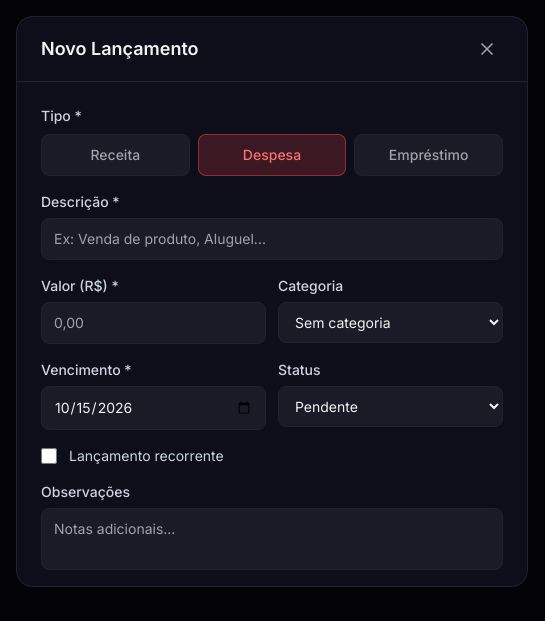
Test: LancamentoForm — empréstimo › bloqueia submit de empréstimo sem direção
Click the button "Empréstimo" at (429, 154), box [354,134,503,176]
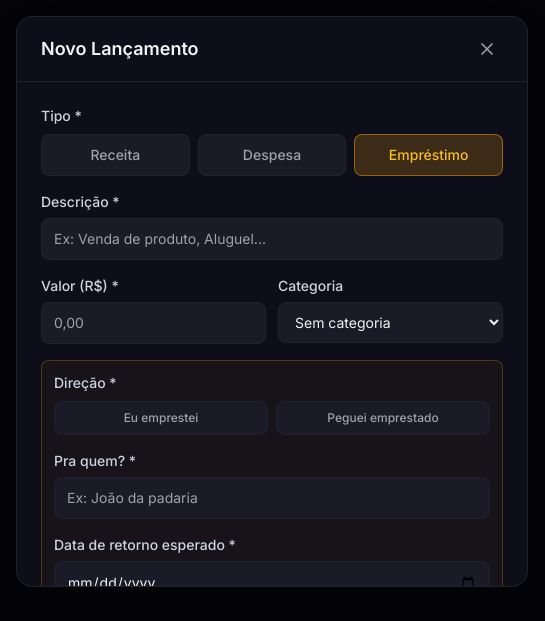
Type "Empréstimo X" into the field with placeholder "Ex: Venda de produto, Aluguel..." at (272, 238), box [41,218,503,260]
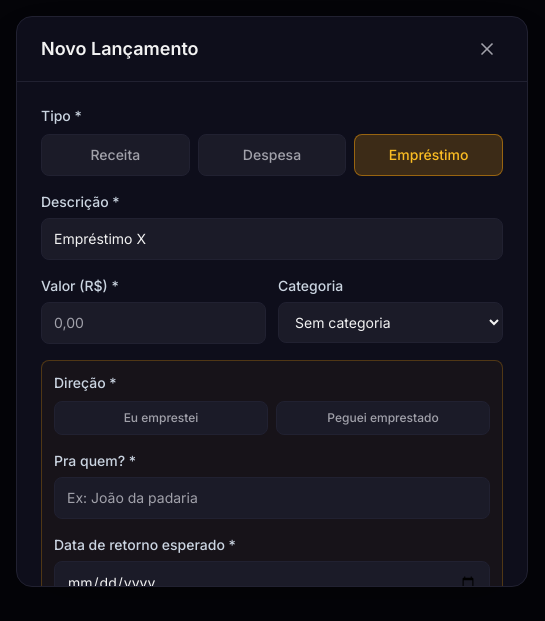
Type "500" into the field with placeholder "0,00" at (154, 322), box [41,302,266,344]
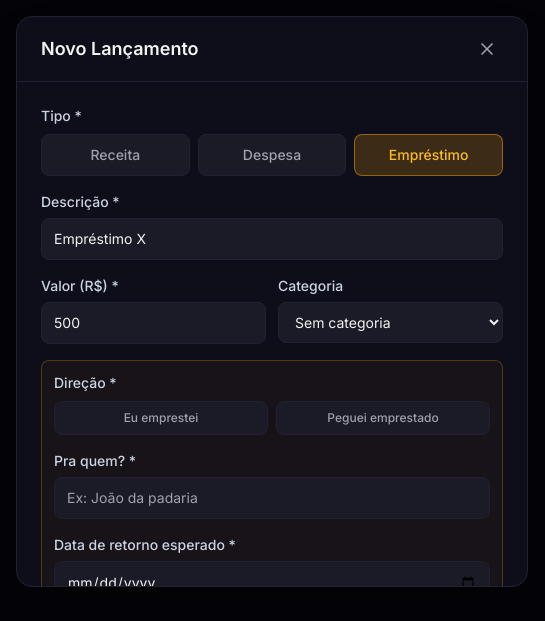
Type "João" into the field with placeholder "Ex: João da padaria" at (272, 498), box [54,476,490,518]
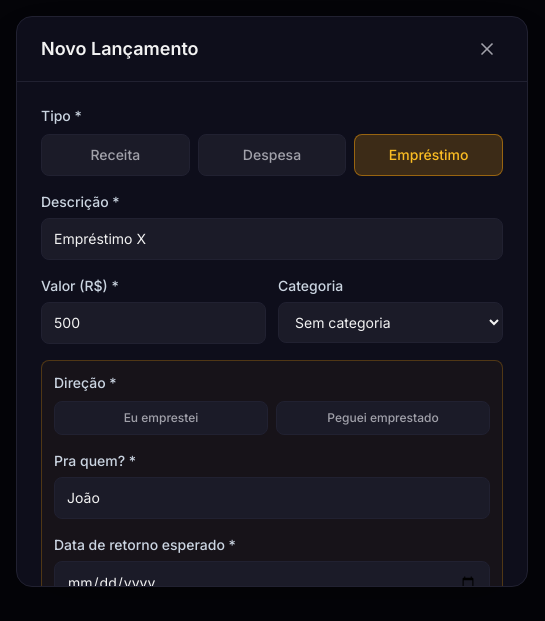
Type "2026-08-01" into the date field at (272, 582), box [54,560,490,604]
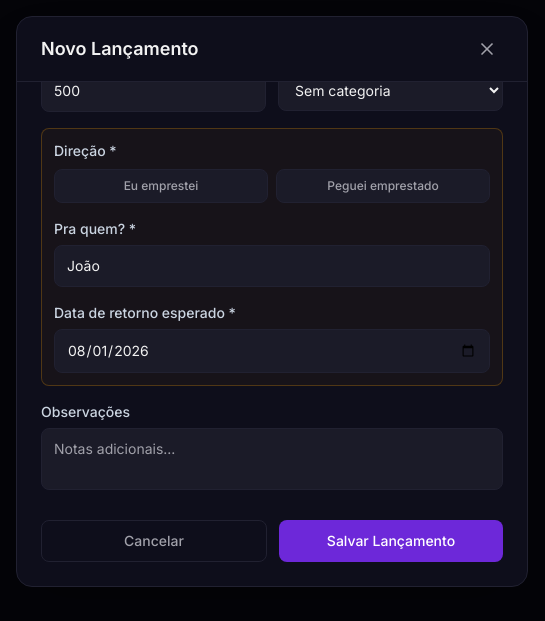
Click the button "Salvar Lançamento" at (391, 540), box [279,520,503,562]
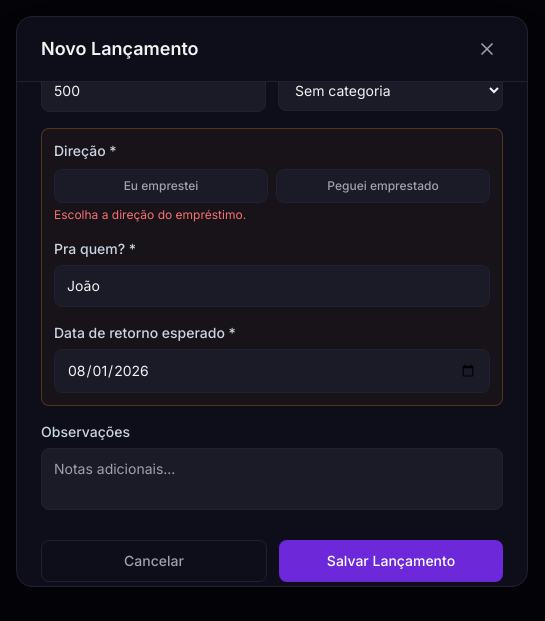
expect the text "Escolha a direção do empréstimo." is shown: met, box [54,206,246,222]
